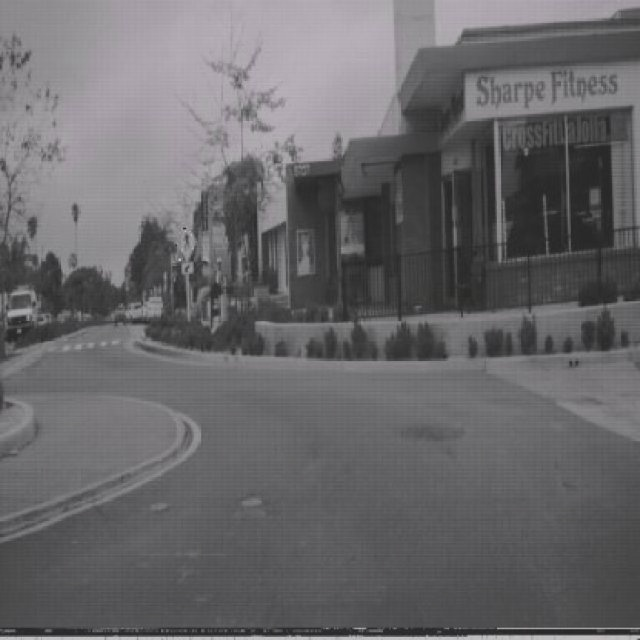pedestrianCrossing: (177, 222, 198, 262)
